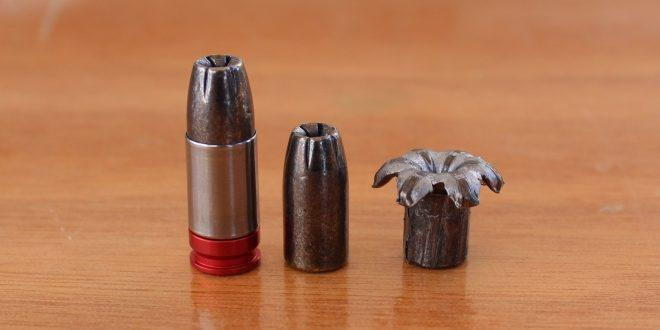Bullet: (178, 48, 267, 281), (368, 142, 511, 282), (277, 115, 356, 274)
